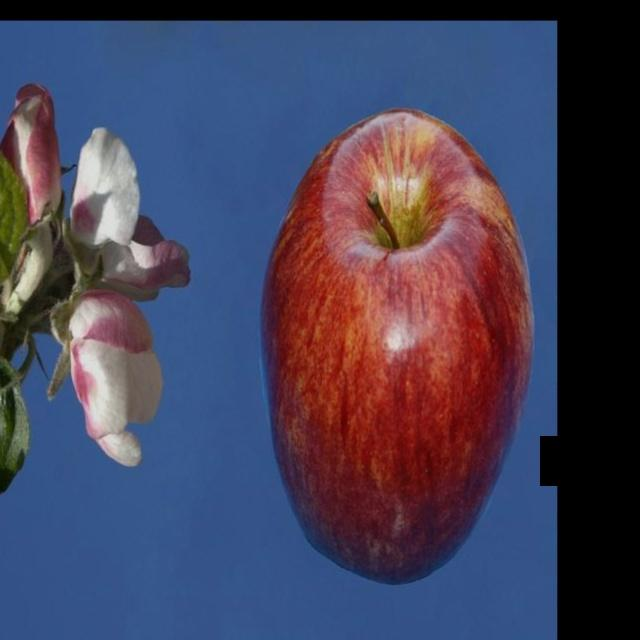red apple: (263, 105, 536, 583)
